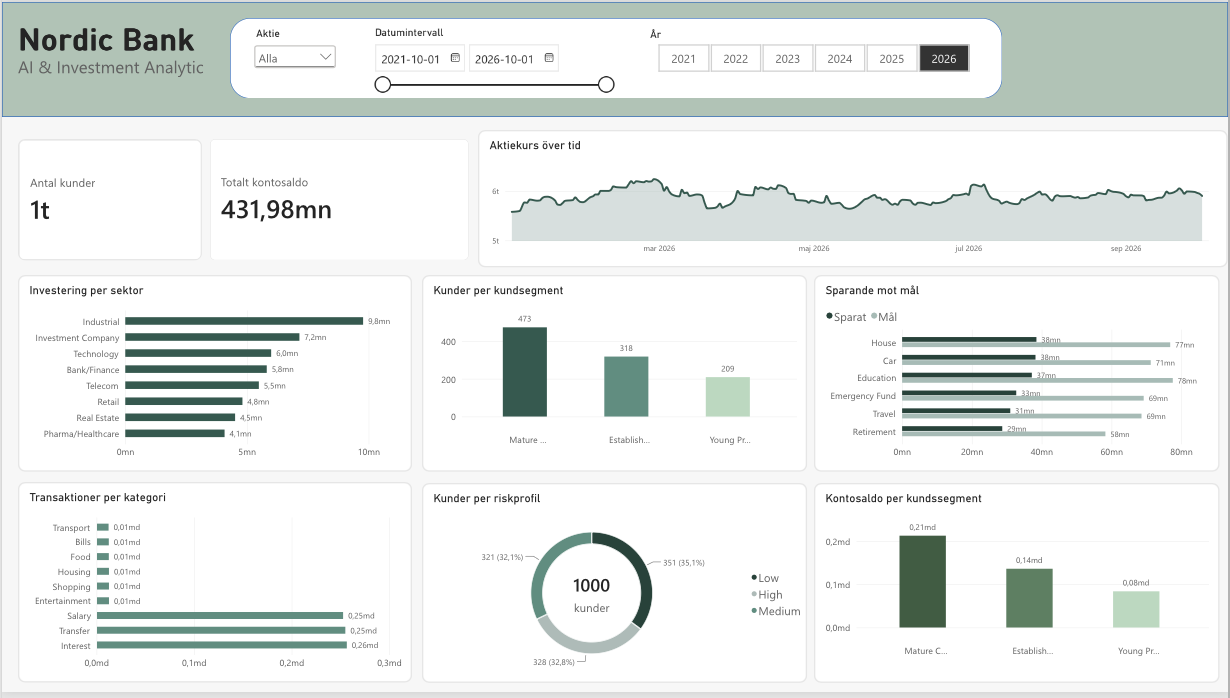

The dashboard page shown, as its layout file describes it:
{"tool":"powerbi","page":{"name":"Rapport","canvas":[1920,1080],"ordinal":0},"visuals":[{"type":"cardVisual","fields":{"Data":["CountNonNull(customer.customer_id)"]},"box":[25.6,214,287.5,190],"z":0},{"type":"cardVisual","fields":{"Data":["Sum(account.balance)"]},"box":[325.6,214,405,190],"z":1000},{"type":"clusteredColumnChart","title":"Account balance by customer segment","fields":{"Category":["customer.customer_segment"],"Y":["Sum(account.balance)"]},"box":[1270.9,753.5,634.9,312.8],"z":2000},{"type":"columnChart","title":"Customers by customer segment","fields":{"Category":["customer.customer_segment"],"Y":["Count(customer.customer_id)"]},"box":[658.1,427.9,603.5,308.1],"z":3000},{"type":"donutChart","title":"Customers by risk profile","fields":{"Category":["customer.risk_profile"],"Y":["Count(account.customer_id)"]},"box":[658.1,753.5,603.5,312.8],"z":4000},{"type":"barChart","title":"Invested capital by sector","fields":{"Category":["investment.sector"],"Y":["investment.Investeringsvärde"]},"box":[25.6,427.9,617.4,308.1],"z":5000},{"type":"barChart","title":"Transactions by category","fields":{"Category":["transactions.category"],"Y":["Sum(transactions.amount)"]},"box":[25.6,752.3,617.4,314],"z":6000},{"type":"clusteredBarChart","title":"Savings progress","fields":{"Category":["savingsgoal.goal_name"],"Y":["Sum(savingsgoal.current_amount)","Sum(savingsgoal.target_amount)"]},"box":[1270.9,427.9,634.9,308.1],"z":7000},{"type":"lineChart","title":"Stock price over time","fields":{"Category":["marketdata.market_date"],"Y":["Sum(marketdata.close_price)"]},"box":[745.3,201.2,1174,214.4],"z":8000},{"type":"shape","title":"Rektangeln","box":[0,0,1920,180],"z":9000},{"type":"shape","box":[356.6,24.5,1209.4,126.4],"z":10000},{"type":"slicer","title":"Ticker","fields":{"Values":["marketdata.ticker"]},"box":[390,40,138.1,69.1],"z":11000},{"type":"slicer","title":"År","fields":{"Values":["marketdata.market_date.Variation.Hiérarchie de dates.Année"]},"box":[1007.5,42.5,527,69.1],"z":12000},{"type":"textbox","title":"Nordic Bank","box":[25,37.5,315,82.5],"z":13000},{"type":"slicer","fields":{"Values":["marketdata.market_date"]},"box":[575.6,39.5,386,111.6],"z":14000}]}

Visuals, with their boxes in screenshot pixels (x1, y1, x2, y2), scaled from the page's 1920x1080 canvas onto the 1230x698 screenshot:
cardVisual - CountNonNull(customer.customer_id): region(16, 138, 201, 261)
cardVisual - Sum(account.balance): region(209, 138, 468, 261)
"Account balance by customer segment" clusteredColumnChart: region(814, 487, 1221, 689)
"Customers by customer segment" columnChart: region(422, 277, 808, 476)
"Customers by risk profile" donutChart: region(422, 487, 808, 689)
"Invested capital by sector" barChart: region(16, 277, 412, 476)
"Transactions by category" barChart: region(16, 486, 412, 689)
"Savings progress" clusteredBarChart: region(814, 277, 1221, 476)
"Stock price over time" lineChart: region(477, 130, 1229, 269)
"Rektangeln" shape: region(0, 0, 1229, 116)
shape: region(228, 16, 1003, 98)
"Ticker" slicer: region(250, 26, 338, 71)
"År" slicer: region(645, 27, 983, 72)
"Nordic Bank" textbox: region(16, 24, 218, 78)
slicer - marketdata.market_date: region(369, 26, 616, 98)
